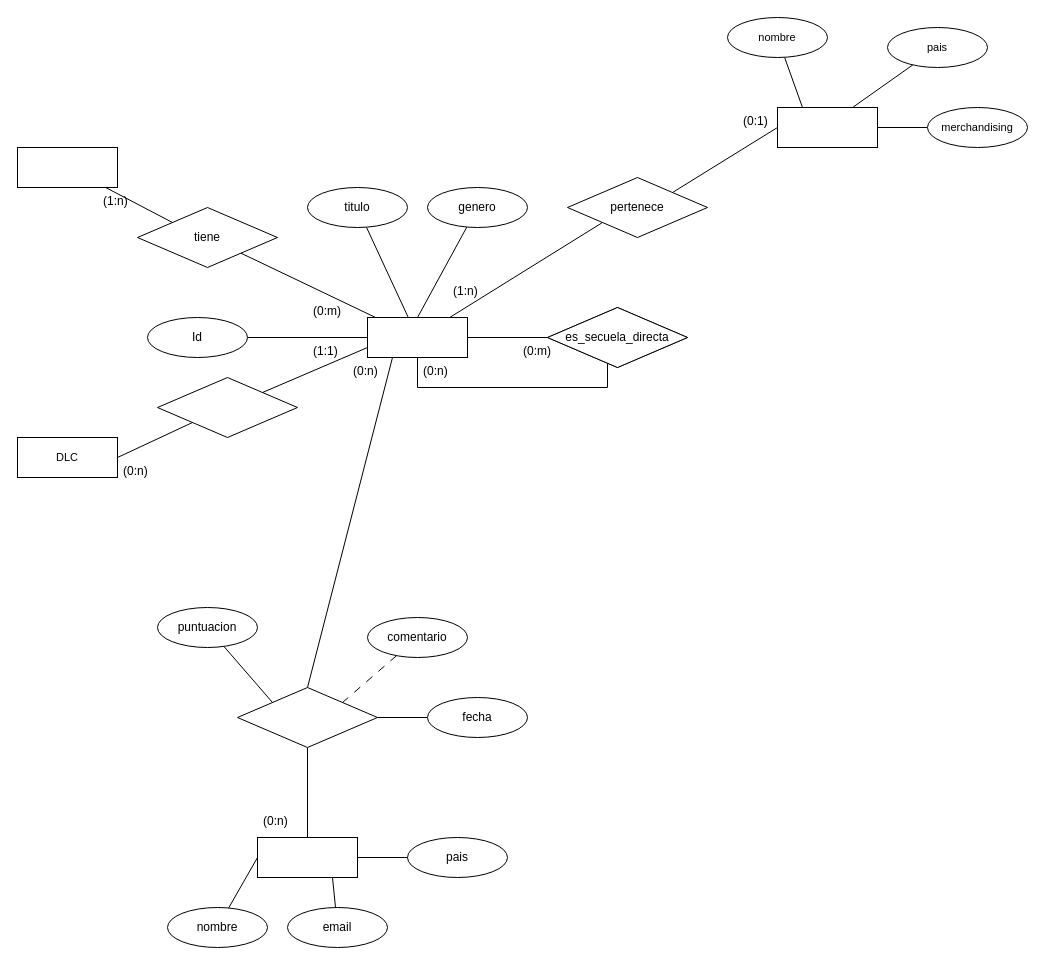
Some shapes in this 1045 by 965 pixel diagram are drawn without their labels. Here are the shapes that lost their labels. From the top down, the box of each, then its label:
(776, 106, 878, 148): saga
(16, 146, 118, 188): modo
(366, 316, 468, 358): Videojuego
(156, 376, 298, 438): posee
(236, 686, 378, 748): valora
(256, 836, 358, 878): usuario
